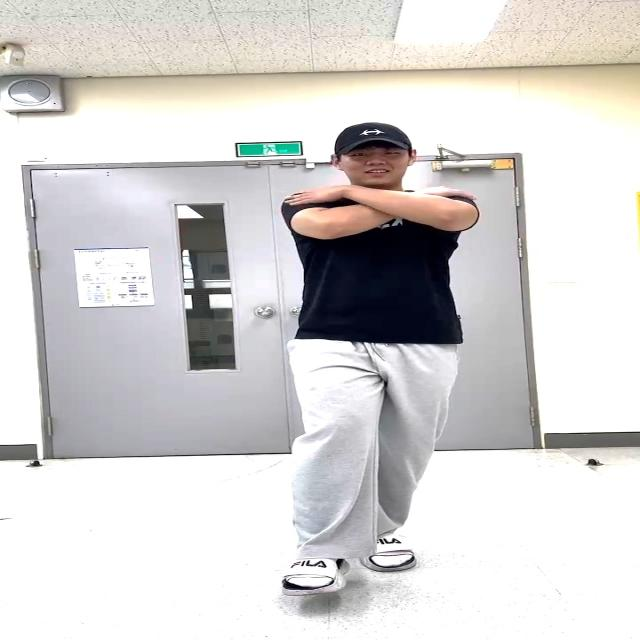leg: (292, 353, 359, 598)
